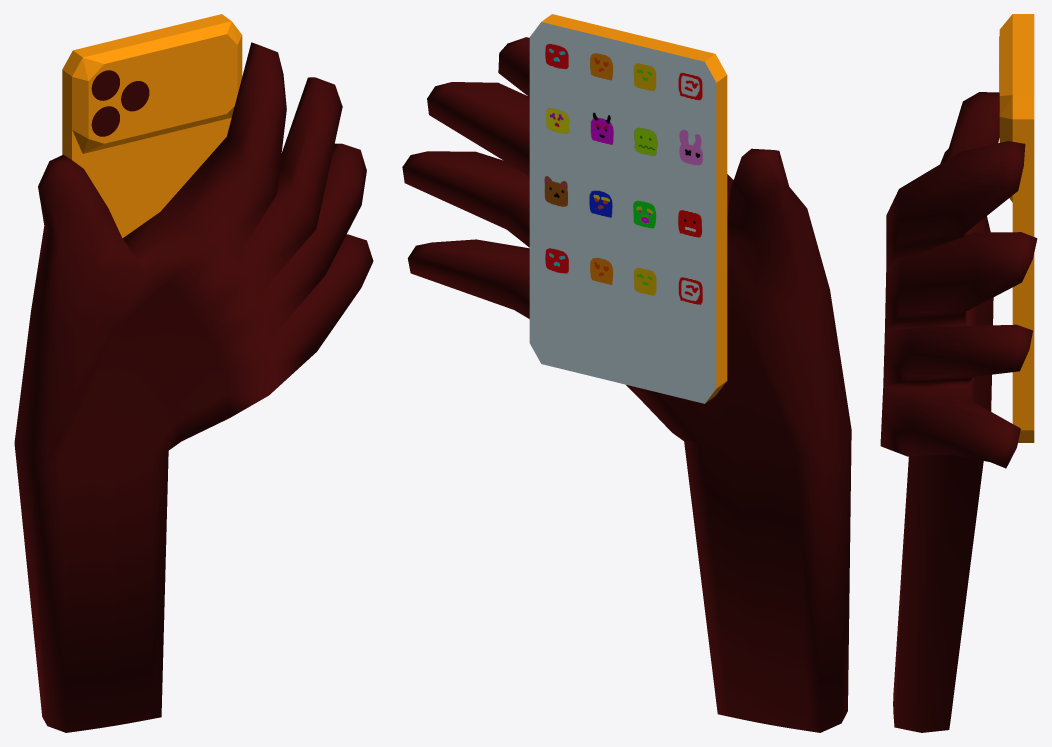
File: sumaho.obj
3 renders of one model, left to right at view 1: azimuth 30°, elevation 25°; view 2: azimuth 150°, elevation 25°; view 3: azimuth 270°, elevation 25°, orthographic. The views are drawn at different scales.
Visible parts, largest first — view 1: 立方体.001; view 2: 立方体.001; view 3: 立方体.001.
Boxes of the visible parts, bbox=[...] form: 立方体.001: bbox=[14, 14, 373, 732]; 立方体.001: bbox=[402, 14, 851, 732]; 立方体.001: bbox=[880, 14, 1037, 732].
Size of the model in its own units: 2.54 by 4.24 by 0.8592.
1 material, 1 textured.
